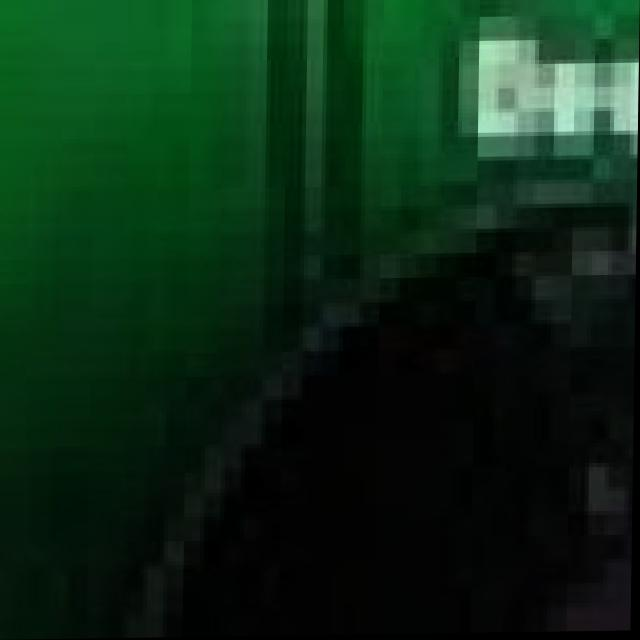buzzer: (169, 177, 638, 638)
